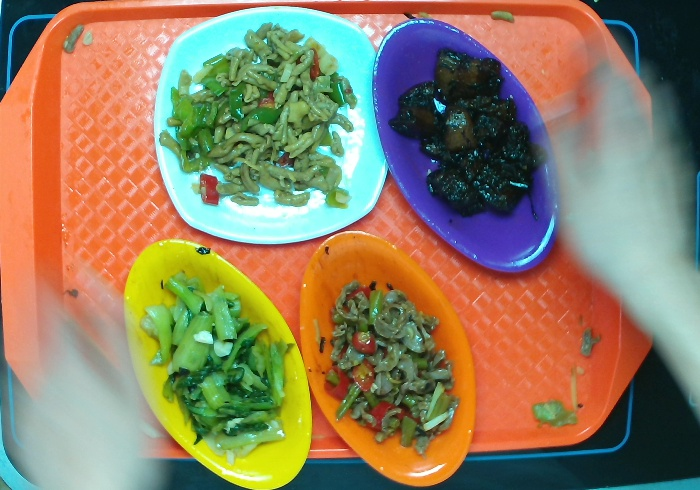RJxy-Fen_Hong_Tuo_Yuan: (366, 15, 567, 279)
RJxy-Huang_Se_Tuo_Yuan: (118, 234, 316, 490)
RJxy-Ju_Huang_Tuo_Yuan: (293, 226, 483, 490)
RJxy-Si_Fang_Die: (149, 4, 398, 246)
